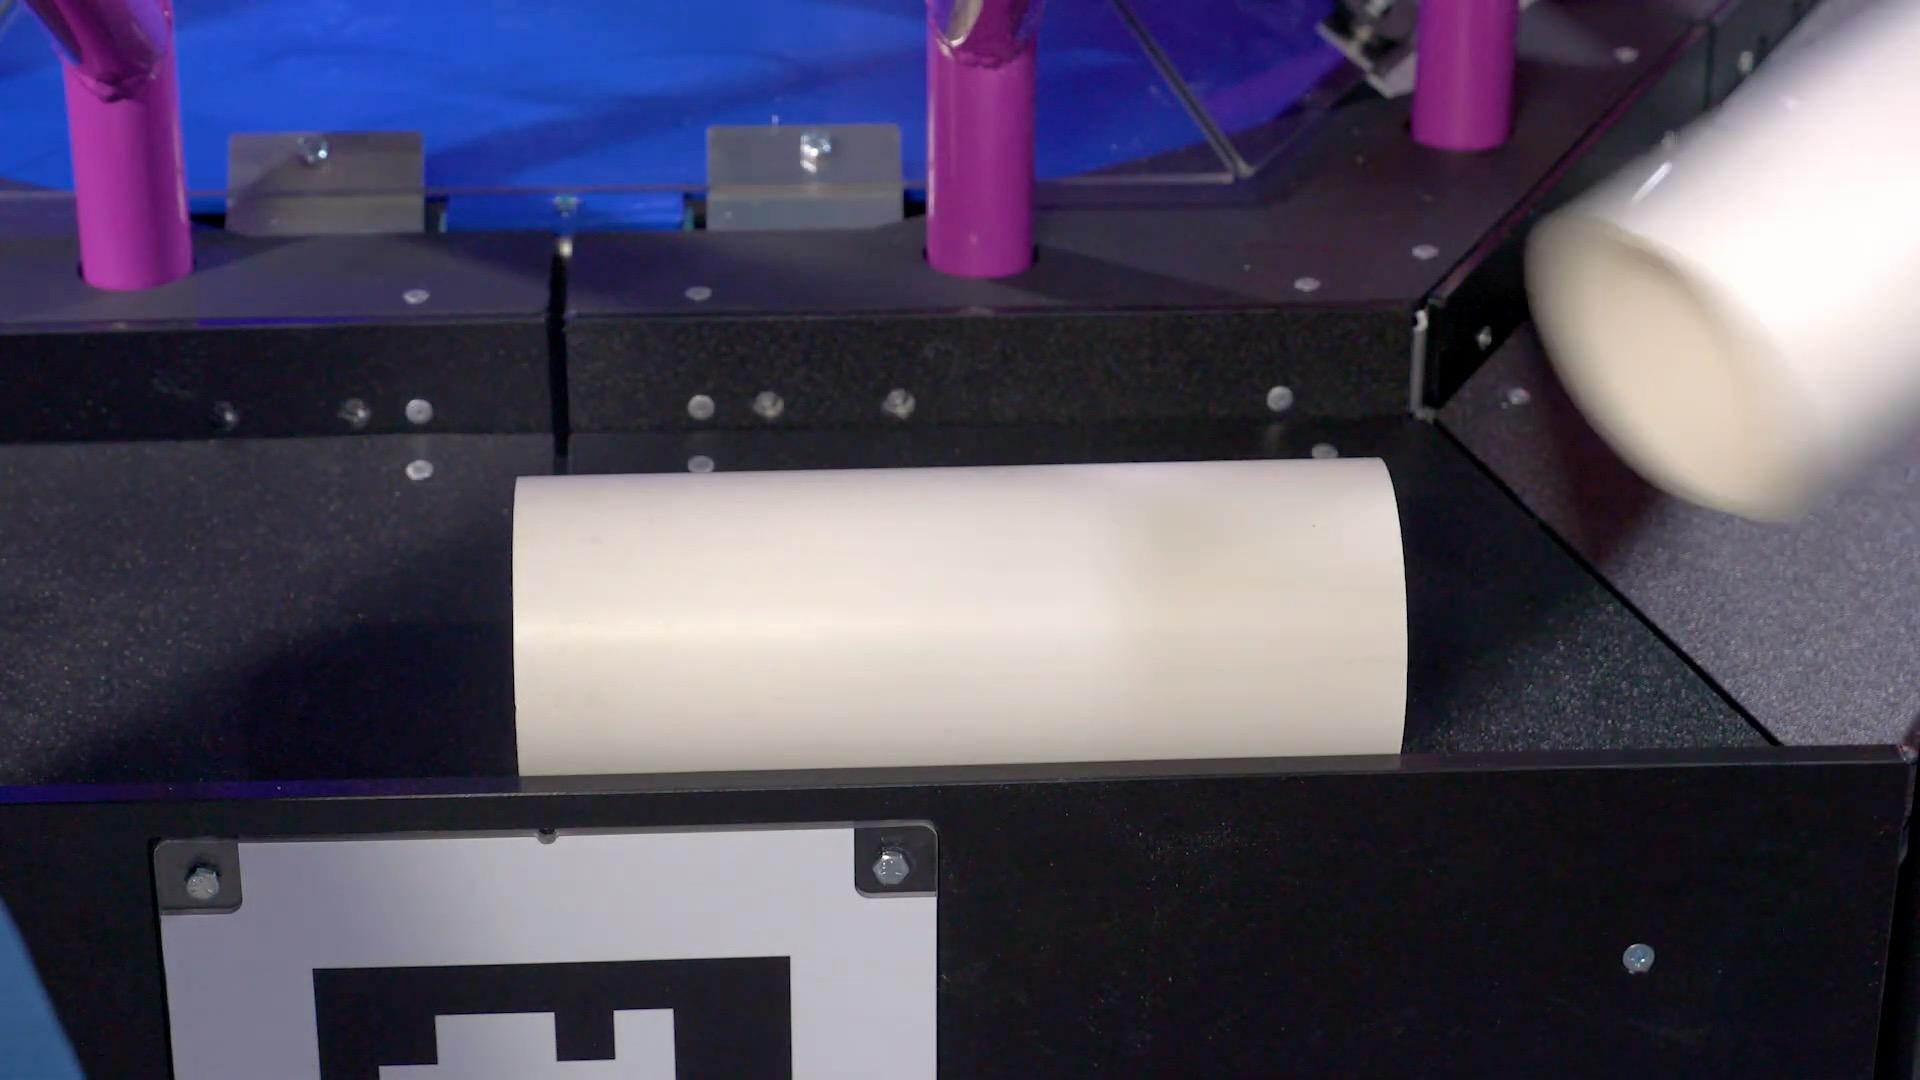CORAL: (509, 454, 1410, 778), (1520, 1, 1917, 525)
